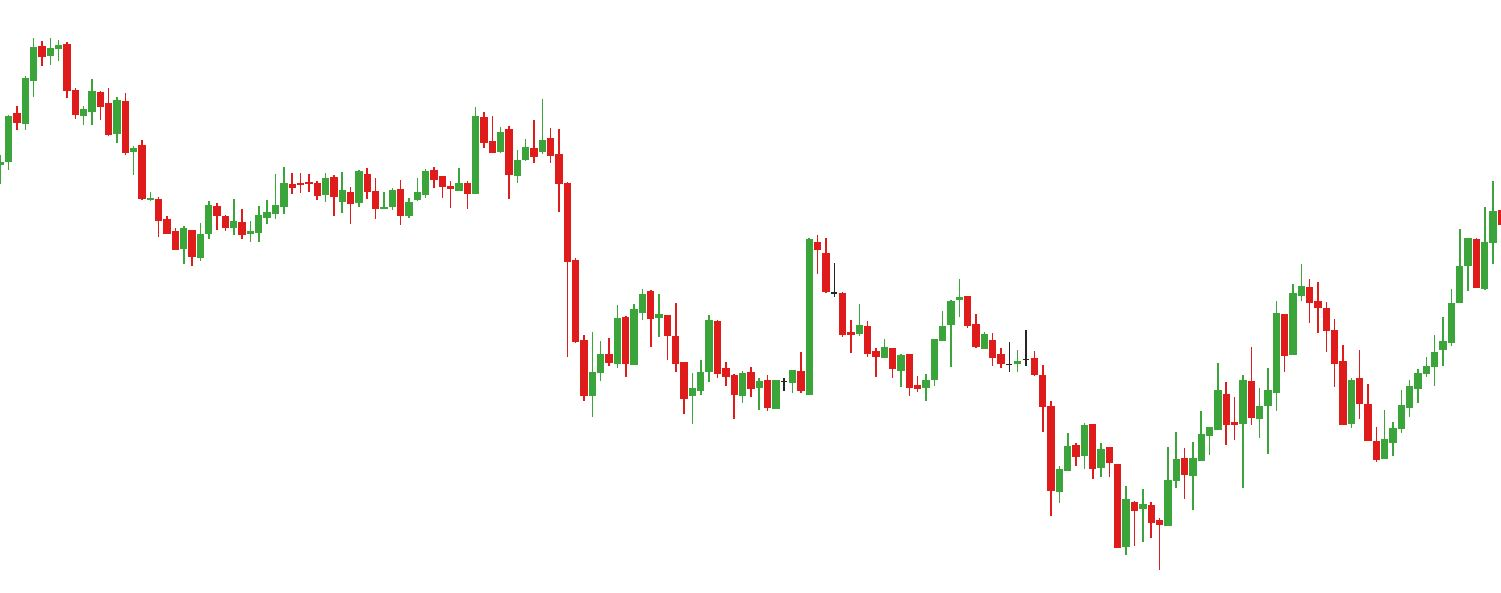sell: (854, 274, 972, 356), (470, 89, 555, 187)
